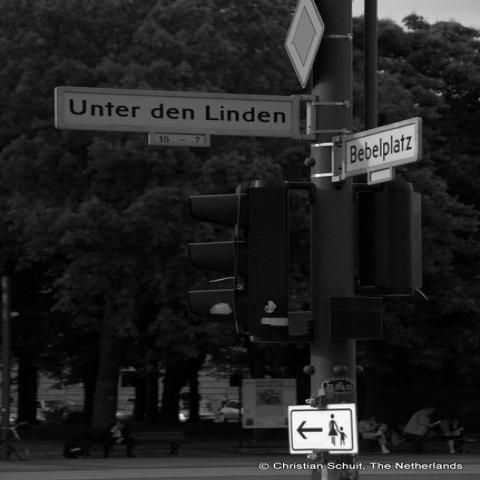car: (39, 398, 80, 423), (179, 402, 216, 422), (219, 398, 242, 422), (115, 401, 136, 423)
